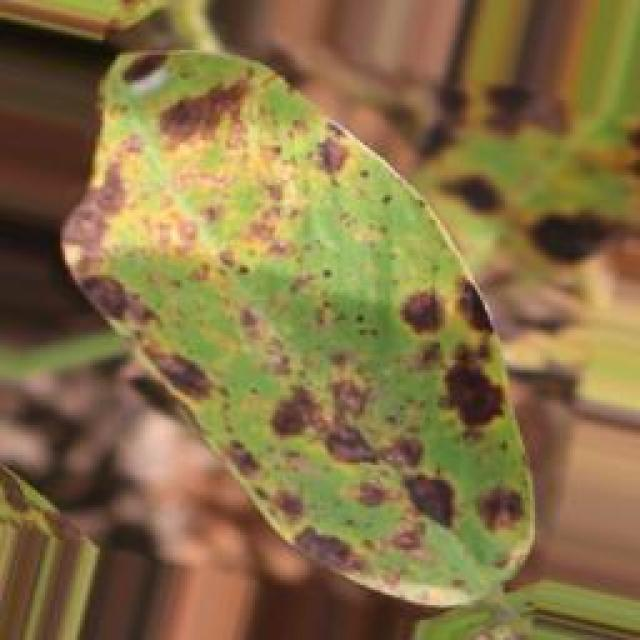Yellowish: (62, 37, 532, 595)
